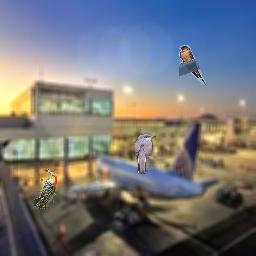Cuckoo: (134, 134, 156, 174)
Swallow: (179, 45, 206, 85)
Woodpecker: (33, 169, 57, 209)
